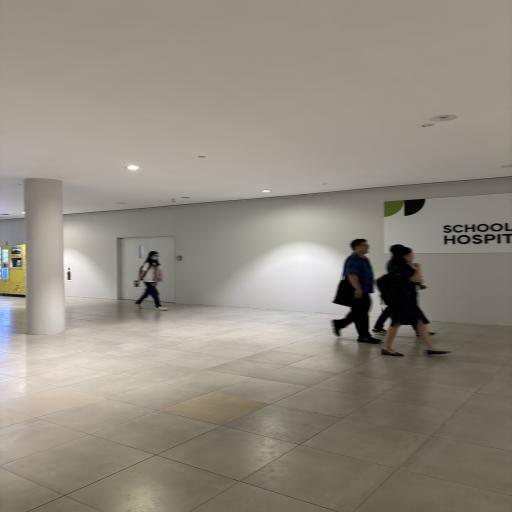person_right: (382, 244, 450, 364), (344, 236, 375, 346), (130, 246, 180, 314)
